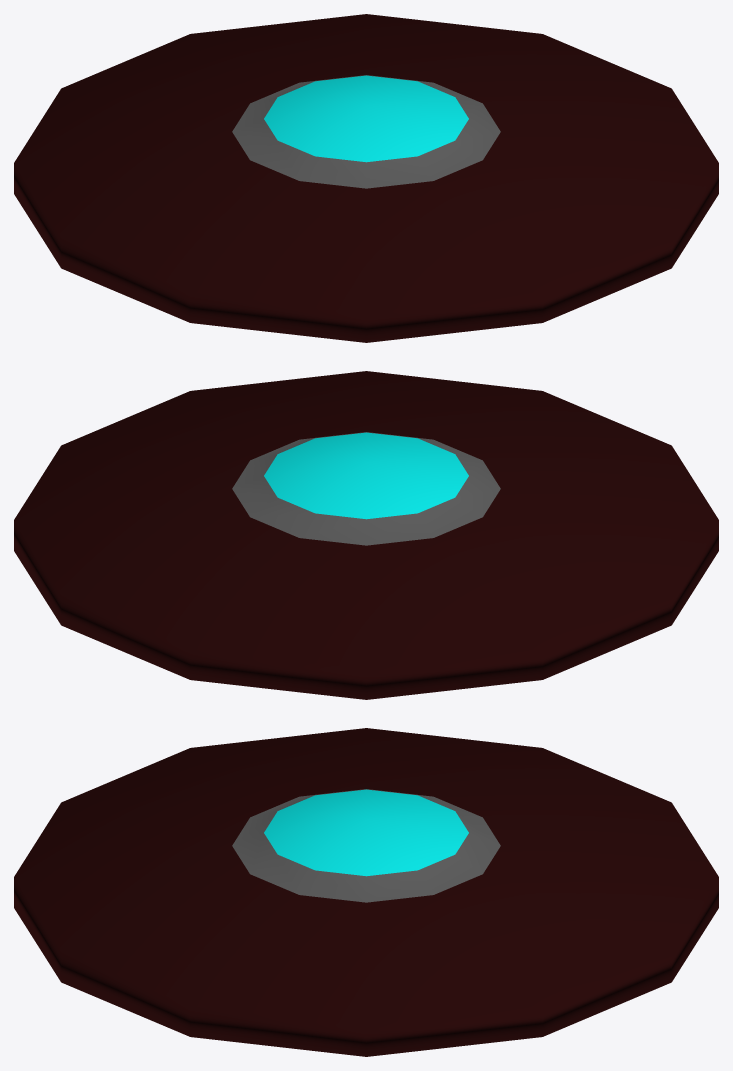
The model's file is SM_LightShield.fbx.
3 views of the same model, one above another, from view 1: azimuth 30°, elevation 25°; view 2: azimuth 150°, elevation 25°; view 3: azimuth 270°, elevation 25° (orthographic).
Parts seen in each view (by area): view 1: Shield; view 2: Shield; view 3: Shield.
Boxes of the visible parts, <box> form: Shield: <box>14,14,718,342</box>; Shield: <box>14,371,718,699</box>; Shield: <box>14,728,718,1056</box>.
Bounding box in the file's own units: 52.7 × 9.29 × 52.7.
